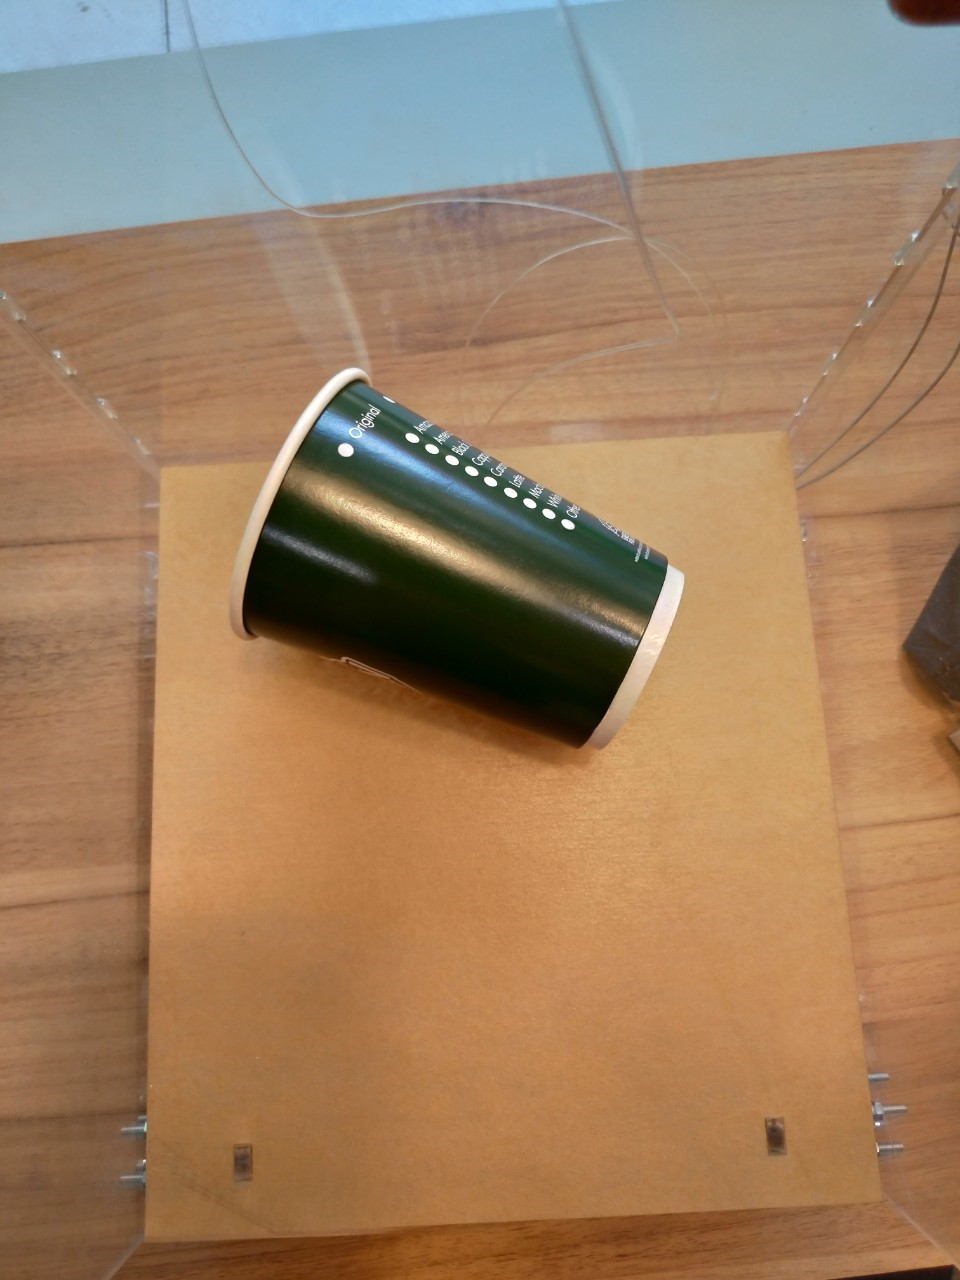PaperCup: (226, 365, 684, 753)
